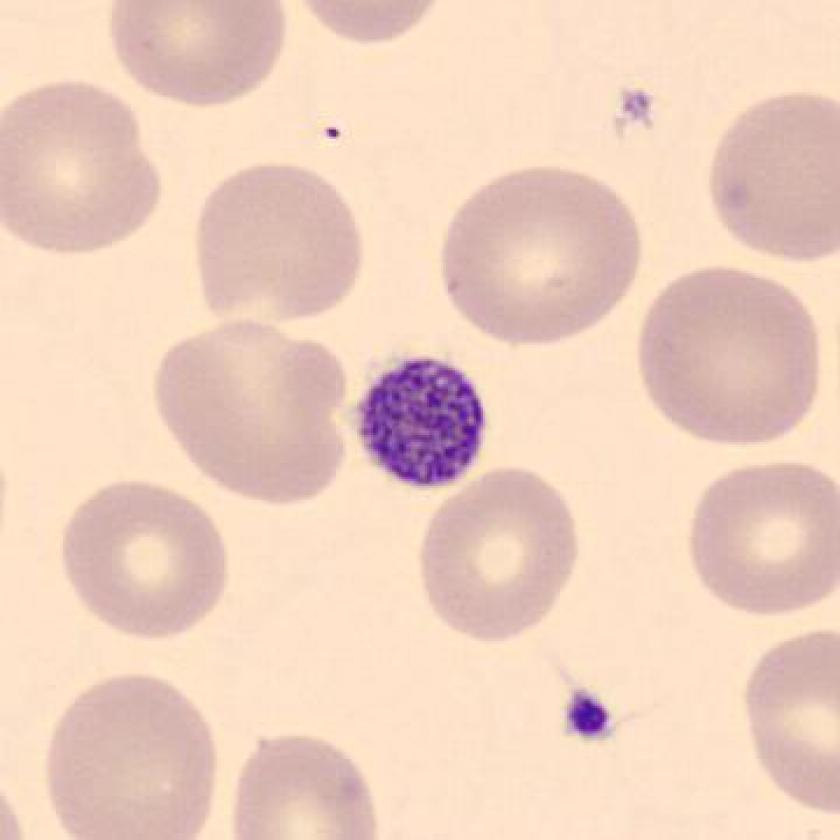platelets: (339, 346, 498, 501), (550, 674, 627, 758)
